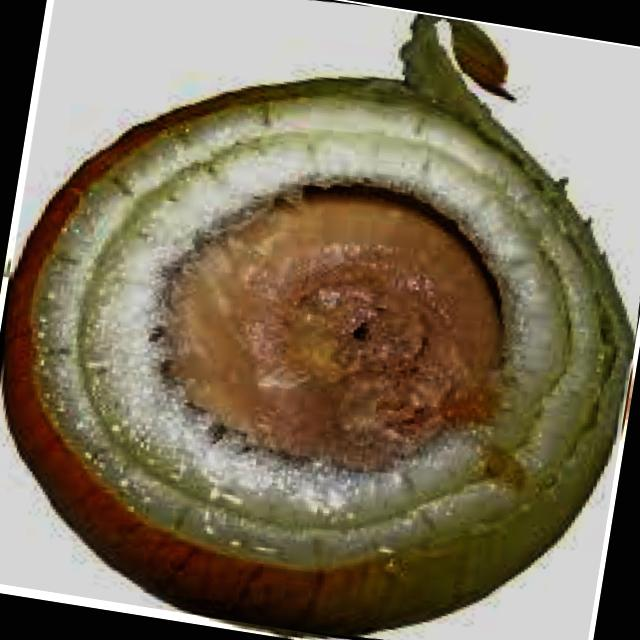rotten: (4, 14, 632, 633)
